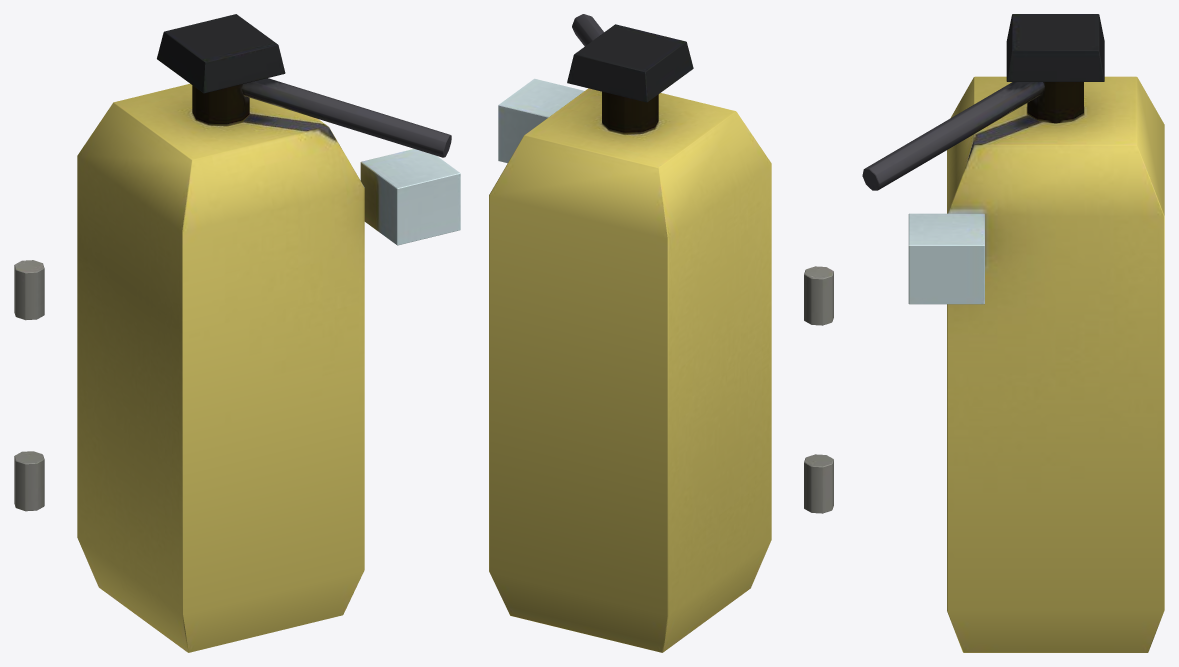
The model's file is IT_oxygen_tank.glb.
3 renders of one model, left to right at view 1: azimuth 30°, elevation 25°; view 2: azimuth 150°, elevation 25°; view 3: azimuth 270°, elevation 25°, orthographic. The views are drawn at different scales.
Visible parts, largest first — view 1: IT_oxygen_tank; view 2: IT_oxygen_tank; view 3: IT_oxygen_tank.
Boxes of the visible parts, left/top/right/bottom form: IT_oxygen_tank: left=14, top=14, right=460, bottom=652; IT_oxygen_tank: left=489, top=14, right=833, bottom=652; IT_oxygen_tank: left=862, top=14, right=1164, bottom=652.
Bounding box in the file's own units: 0.8195 × 1.18 × 0.555.
Materials: 1 (1 with a texture image).
